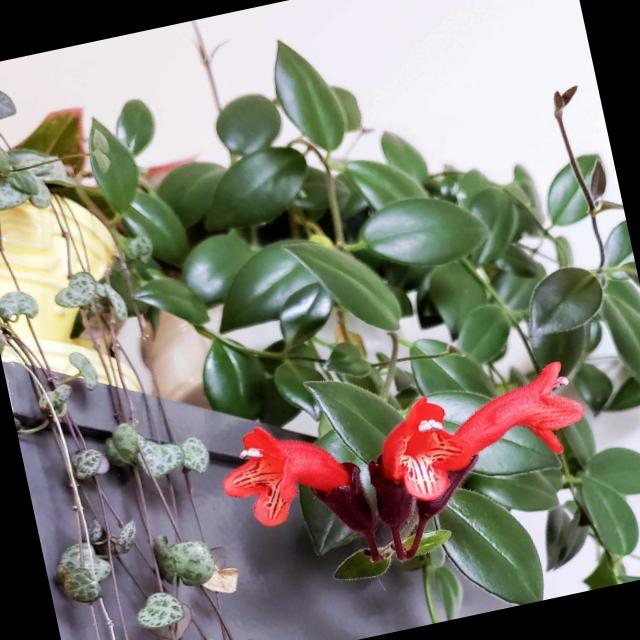Lipstick-Plant: (205, 340, 636, 600)
